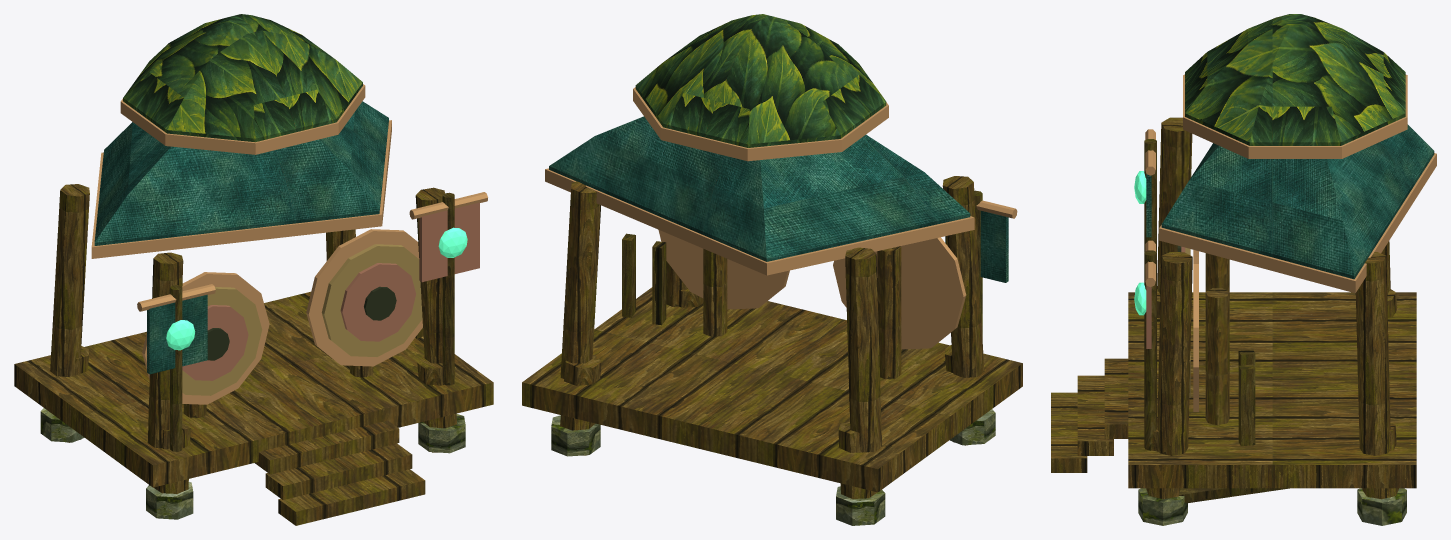
Rendered from 14-archer-lodge.glb.
The picture shows the model from 3 angles, left to right: view 1: azimuth 30°, elevation 25°; view 2: azimuth 150°, elevation 25°; view 3: azimuth 270°, elevation 25°; orthographic projection. The views are drawn at different scales.
Parts seen in each view (by area): view 1: 14-archer-lodge; view 2: 14-archer-lodge; view 3: 14-archer-lodge.
Part boxes in pixels (box(x1,y1,x2,y2)): 14-archer-lodge: box(14, 14, 493, 525); 14-archer-lodge: box(522, 14, 1022, 525); 14-archer-lodge: box(1051, 14, 1436, 525).
Bounding box in the file's own units: 3.19 × 3.54 × 2.88.
10 materials, 5 textured.
